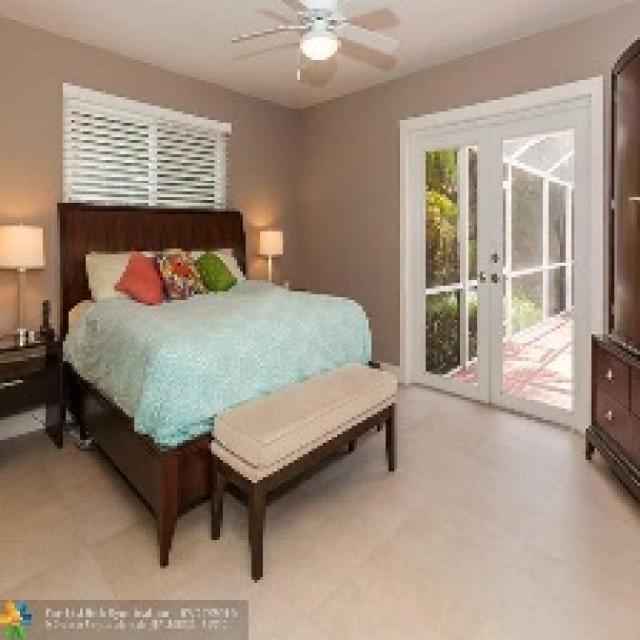Bed: (54, 200, 374, 566)
